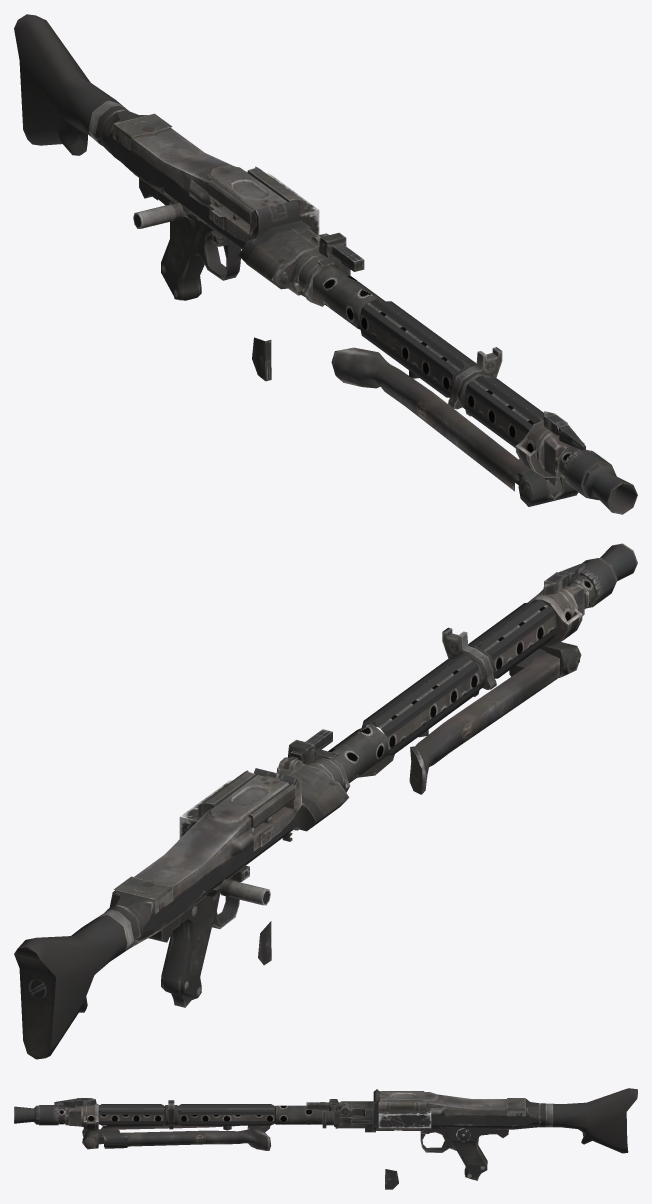
File: dlt19.lod1.glb
The picture shows the model from 3 angles, top to bottom: view 1: azimuth 30°, elevation 25°; view 2: azimuth 150°, elevation 25°; view 3: azimuth 270°, elevation 25°; orthographic projection. The views are drawn at different scales.
Visible parts, largest first — view 1: dlt19_mesh3p_mesh; view 2: dlt19_mesh3p_mesh; view 3: dlt19_mesh3p_mesh.
Part boxes in pixels (bbox=[...]): dlt19_mesh3p_mesh: bbox=[14, 14, 637, 514]; dlt19_mesh3p_mesh: bbox=[14, 543, 637, 1059]; dlt19_mesh3p_mesh: bbox=[14, 1088, 637, 1189].
Size of the model in its own units: 0.1314 by 0.2172 by 1.22.
1 material, 1 textured.
